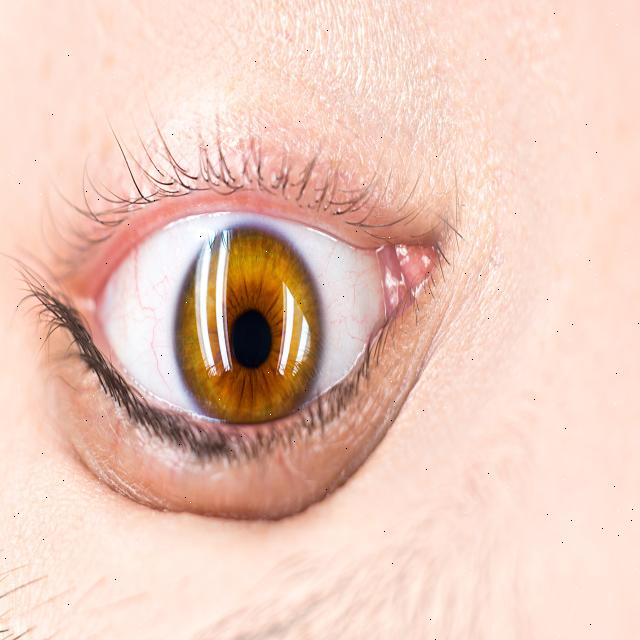Normal: (174, 220, 323, 448)
